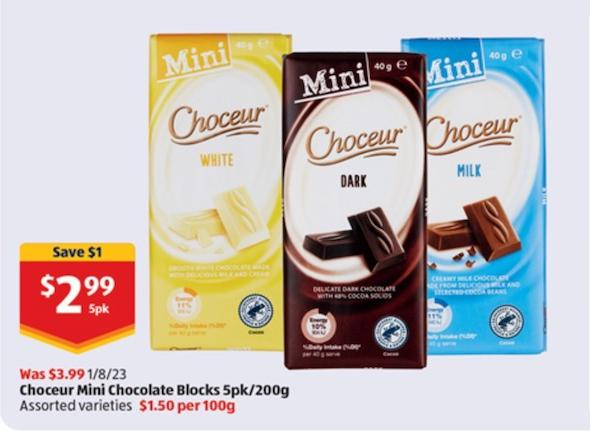description_block: (14, 379, 295, 416)
price_main: (24, 264, 127, 327)
product_image_block: (149, 19, 565, 374)
promo_text_block: (20, 242, 134, 264)
unit_price_block: (132, 392, 247, 422)
